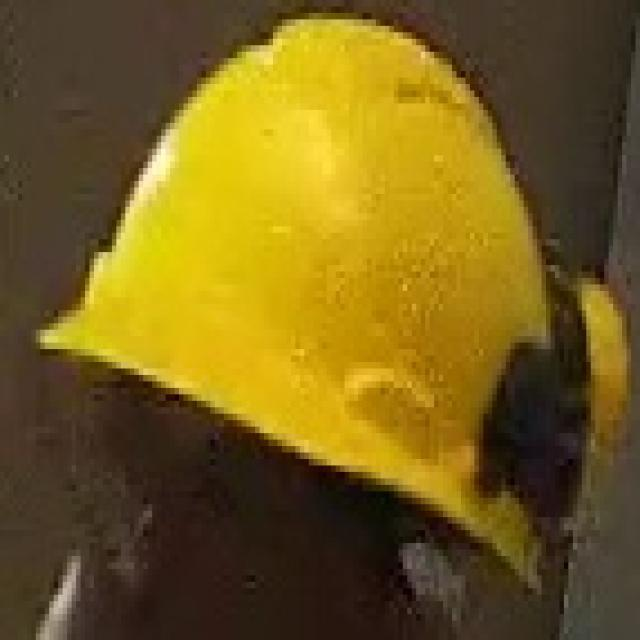yellow helmet: (45, 15, 577, 603)
